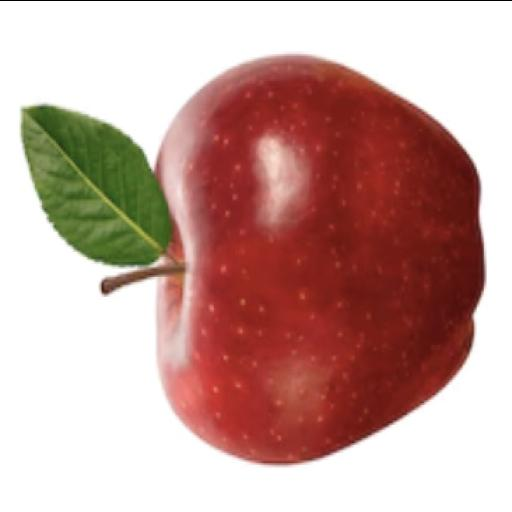apple: (156, 56, 482, 463)
